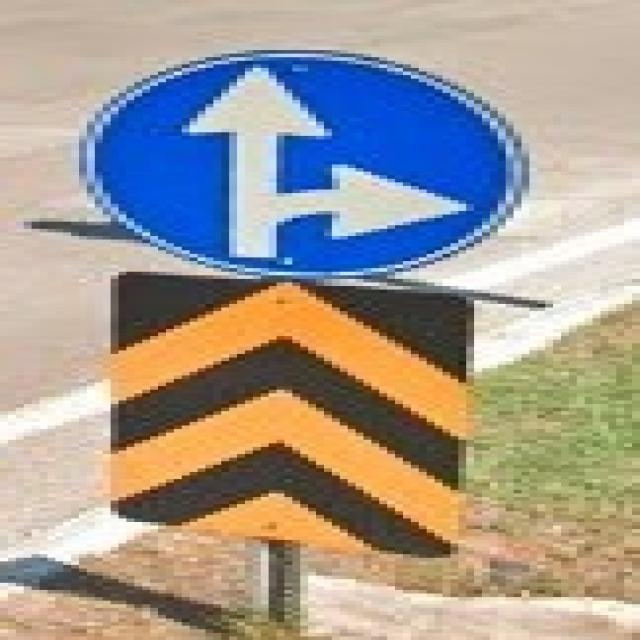Straight or Right: (92, 47, 526, 273)
